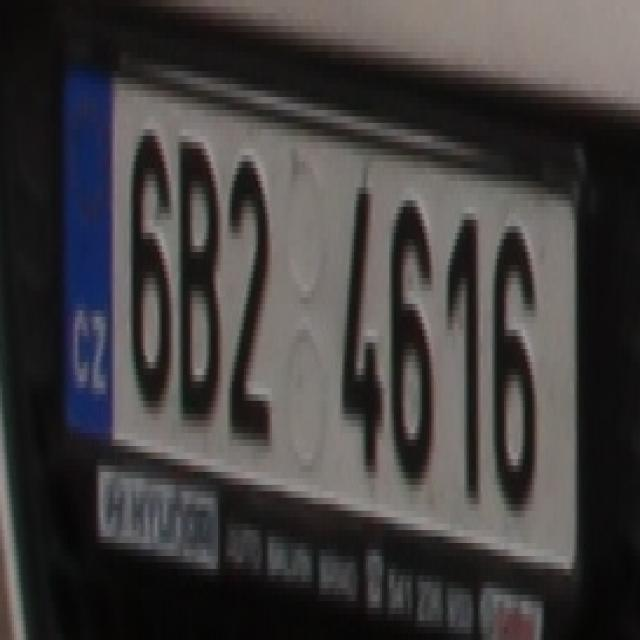1: (448, 213, 485, 524)
2: (225, 142, 274, 453)
4: (340, 187, 387, 485)
6: (387, 200, 436, 498), (488, 213, 536, 511), (129, 123, 173, 394)
B: (176, 123, 220, 420)
